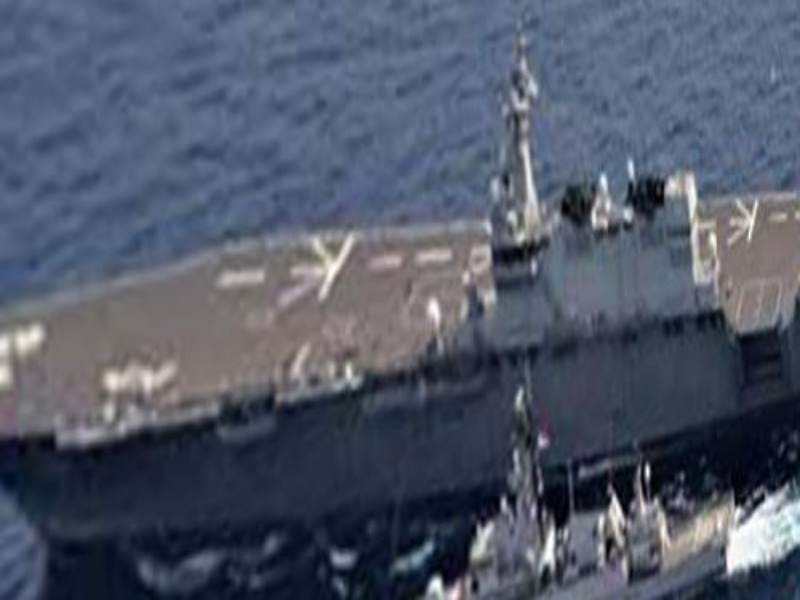carrier: (36, 175, 791, 479)
cruise: (419, 466, 731, 597)
